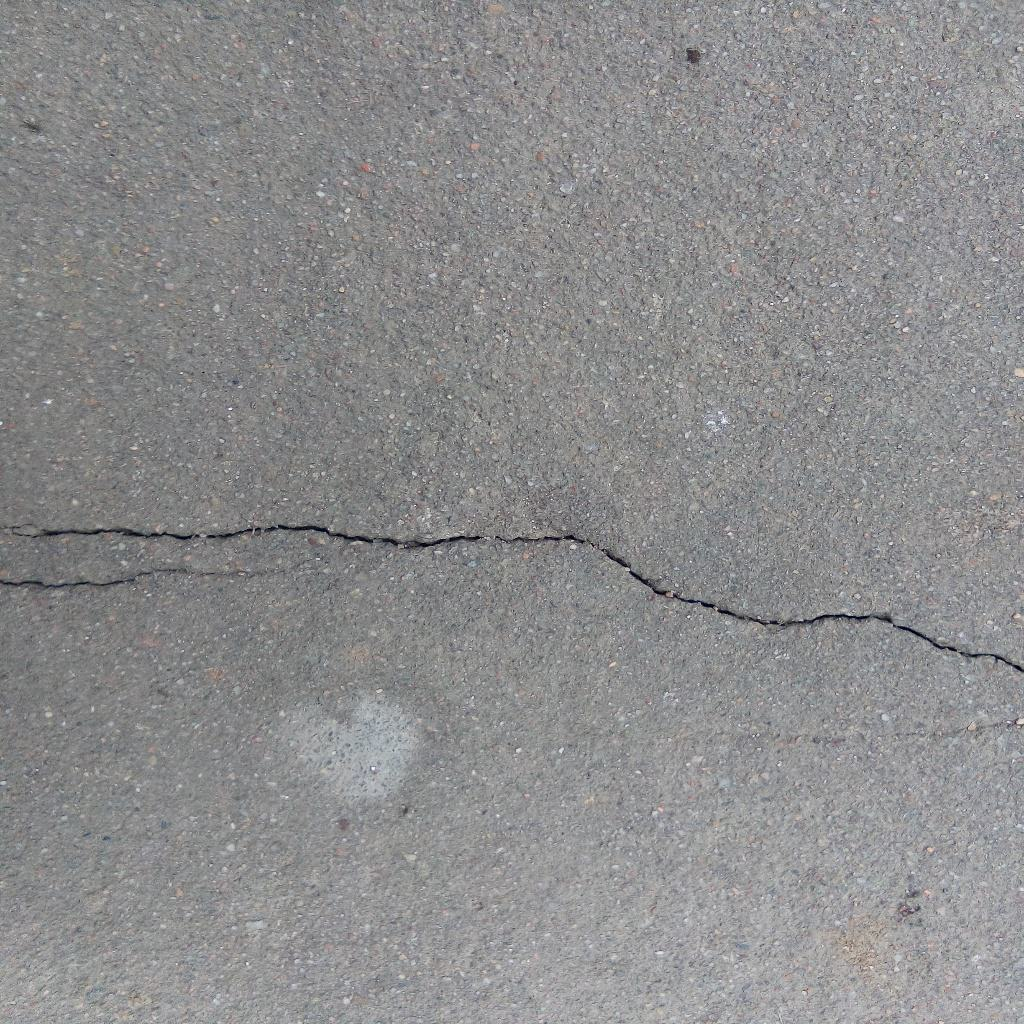Crack: (1, 522, 1024, 675), (1, 566, 190, 590)
